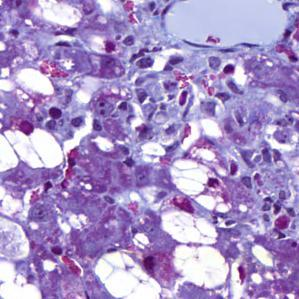ballooning: (169, 157, 232, 214), (91, 249, 164, 296), (1, 126, 66, 172), (169, 245, 230, 289)
